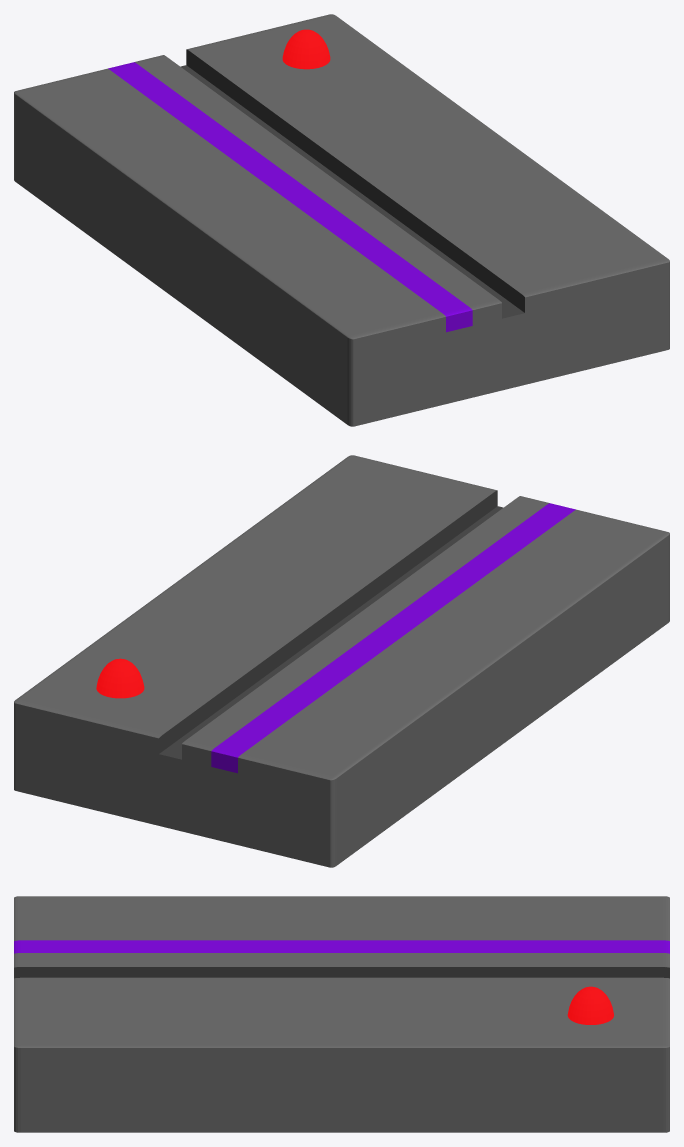
Rendered from PurpleKeyCardScannerRL.glb.
The picture shows the model from 3 angles, top to bottom: view 1: azimuth 30°, elevation 25°; view 2: azimuth 150°, elevation 25°; view 3: azimuth 270°, elevation 25°; orthographic projection. The views are drawn at different scales.
Parts seen in each view (by area): view 1: Base, Light; view 2: Base, Light; view 3: Base, Light.
Part boxes in pixels (x1=…): Base: x1=14, y1=14, x2=669, y2=426; Light: x1=282, y1=29, x2=330, y2=69; Base: x1=14, y1=455, x2=669, y2=867; Light: x1=96, y1=658, x2=144, y2=698; Base: x1=14, y1=896, x2=669, y2=1132; Light: x1=567, y1=986, x2=613, y2=1024.
Size of the model in its own units: 0.055 by 0.0192 by 0.1006.
